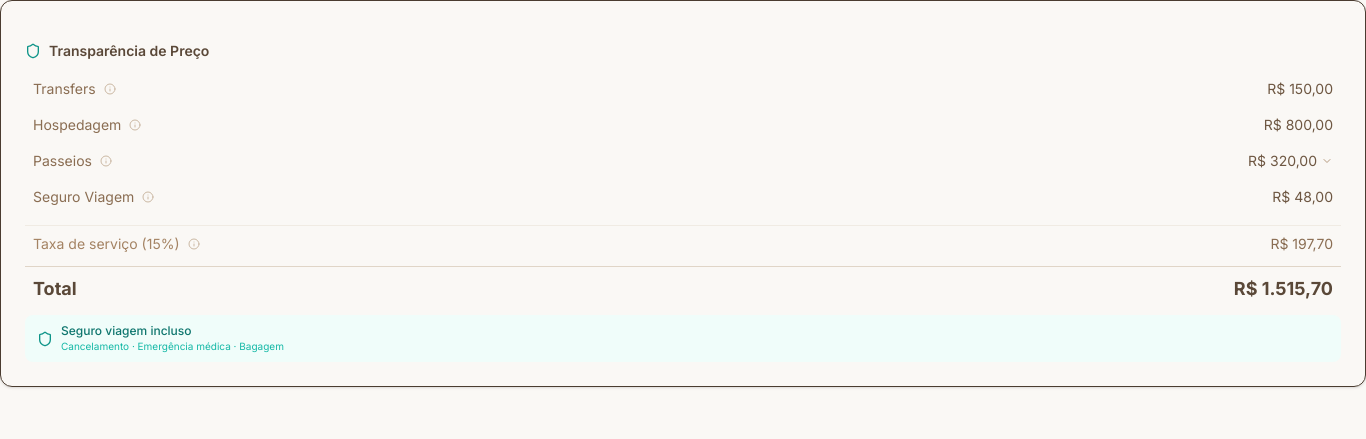
PriceTransparency › expands type to show individual items
What coordinates should you click on to do the following:
click the button with test id "breakdown-row-passeio"
I would click on:
 (62, 160)
Its box is x1=25 y1=145 x2=1341 y2=177.
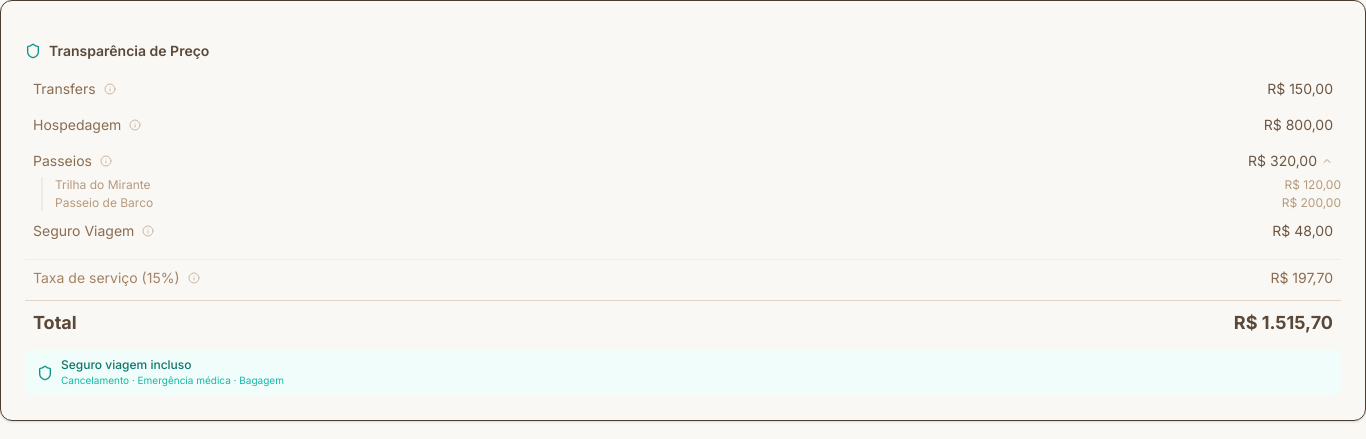
Expected: the element with test id "expanded-passeio" is shown, x1=41 y1=177 x2=1341 y2=211
Expected: the text "Trilha do Mirante" is shown, x1=55 y1=177 x2=150 y2=193
Expected: the text "Passeio de Barco" is shown, x1=55 y1=195 x2=153 y2=211
